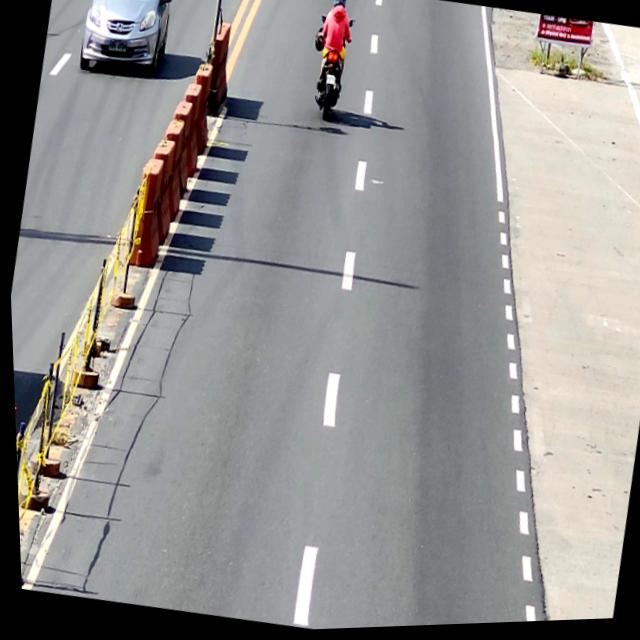Car: (70, 0, 179, 83)
License-Plate: (106, 36, 127, 56)
Motorcycle: (300, 14, 358, 126)
